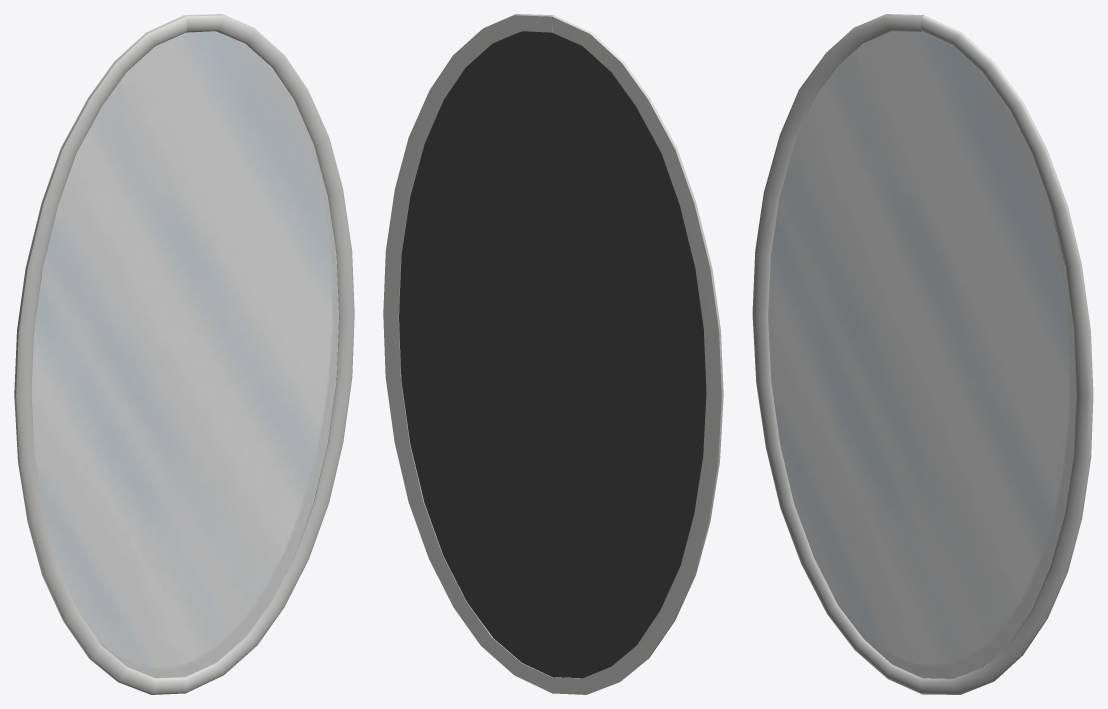
The model's file is oval-mirror.glb.
3 views of the same model, side by side, from view 1: azimuth 30°, elevation 25°; view 2: azimuth 150°, elevation 25°; view 3: azimuth 330°, elevation 25° (orthographic).
Parts seen in each view (by area): view 1: Object_1, Object_2; view 2: Object_0, Object_2; view 3: Object_1, Object_2.
Part boxes in pixels (left/top/right/bottom): Object_1: left=31, top=31, right=338, bottom=678; Object_2: left=14, top=14, right=354, bottom=694; Object_0: left=399, top=31, right=706, bottom=678; Object_2: left=383, top=14, right=723, bottom=694; Object_1: left=768, top=31, right=1076, bottom=678; Object_2: left=752, top=14, right=1093, bottom=694.
Size of the model in its own units: 0.4712 by 0.9 by 0.00857.
3 materials, 1 textured.
